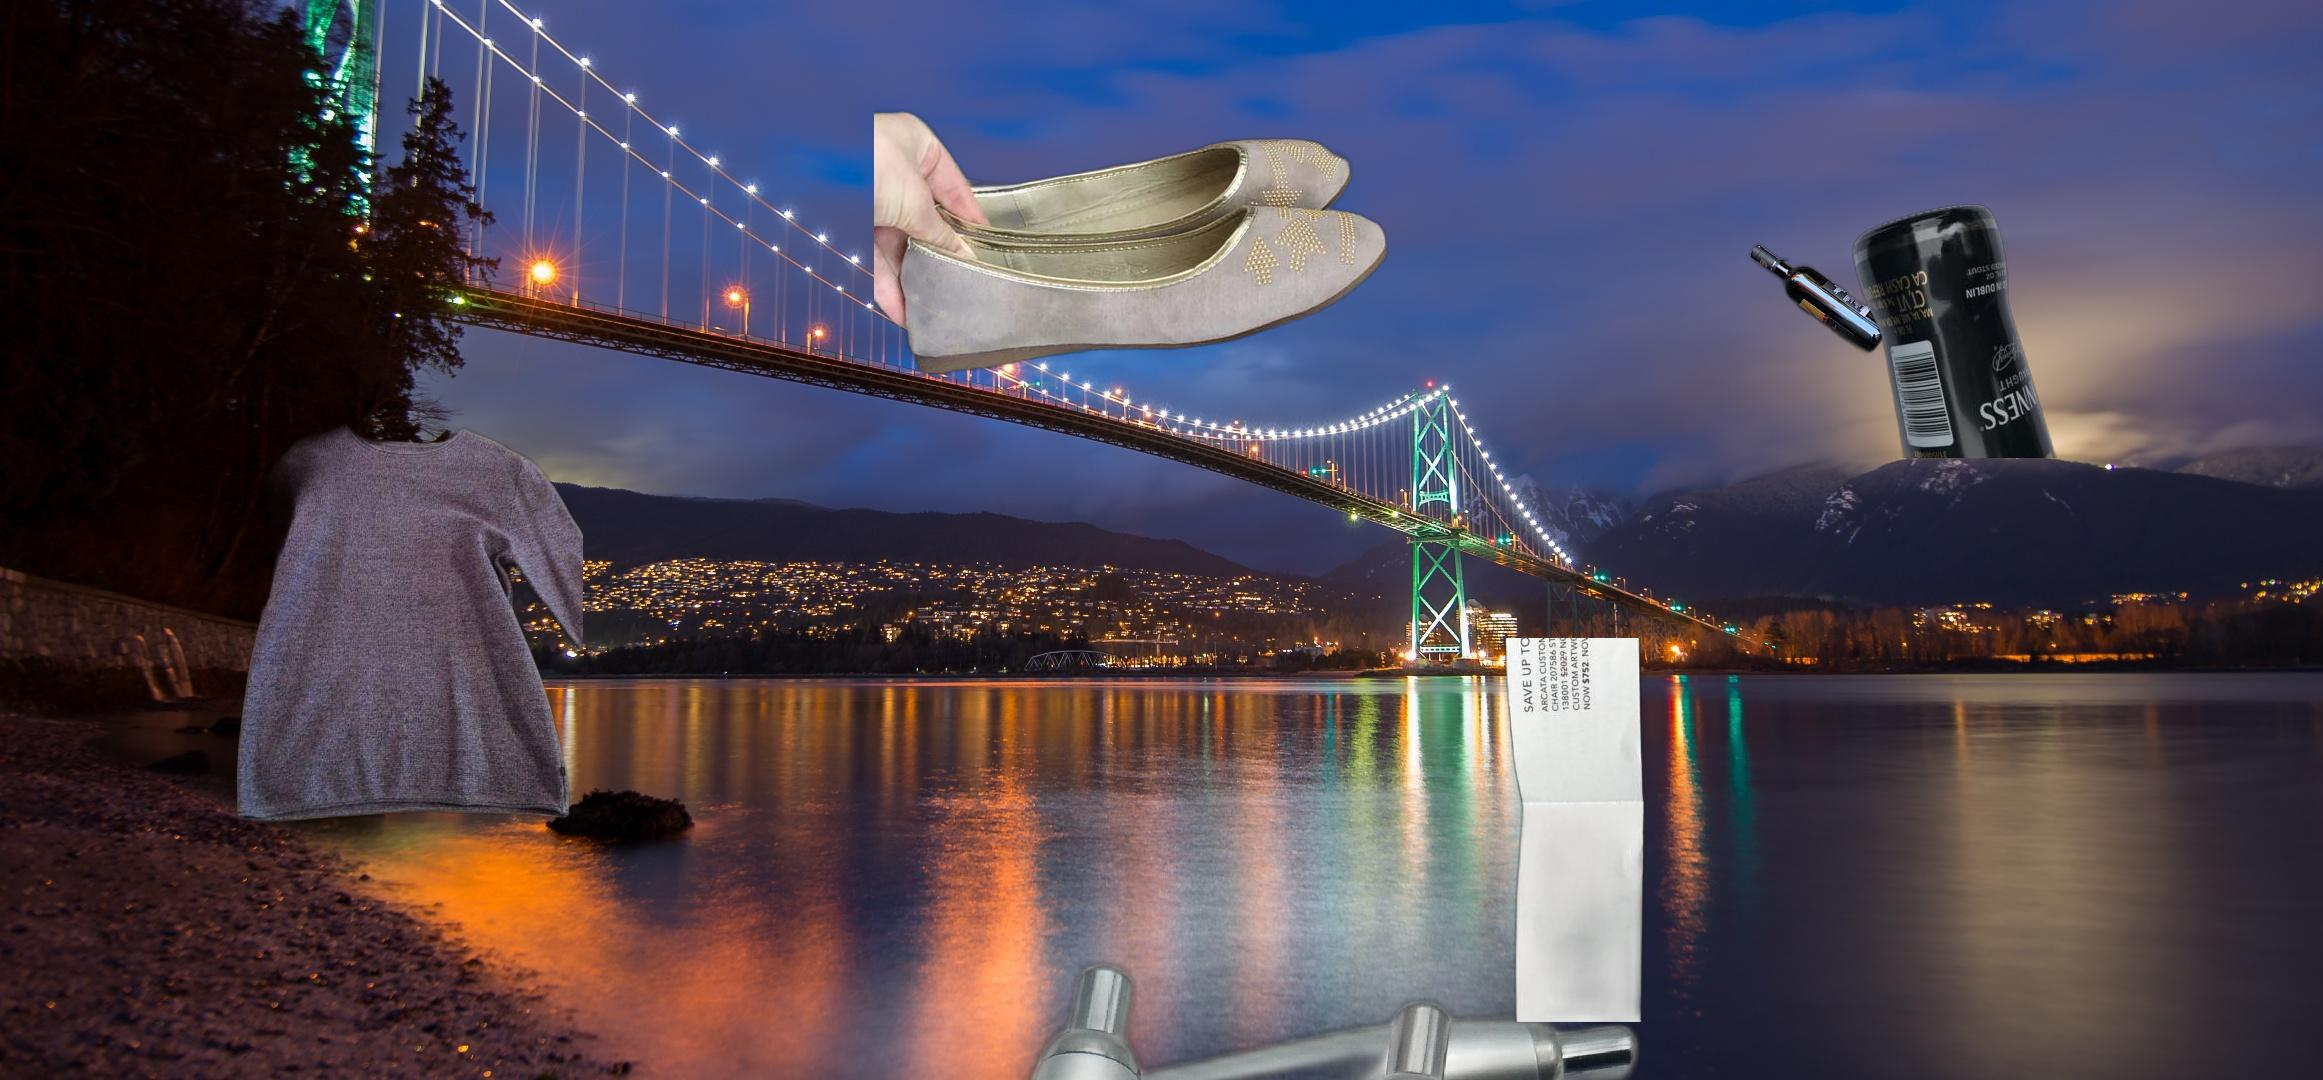clothes: (215, 418, 584, 827)
glass: (1847, 201, 2061, 458), (1747, 239, 1896, 359)
paper: (1347, 639, 1650, 1022)
penholder: (359, 947, 1711, 1080)
plastic-bag: (2322, 890, 2323, 1004)
shoes: (874, 68, 1407, 468)
